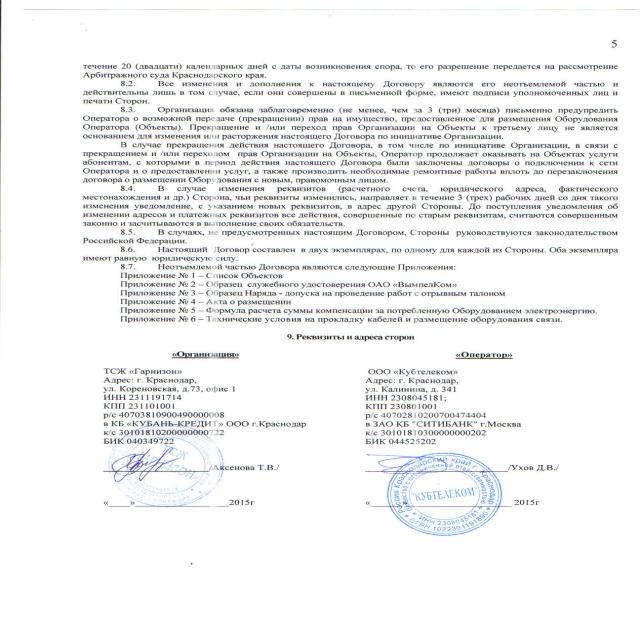stamps: (361, 442, 586, 554), (88, 408, 247, 515)
